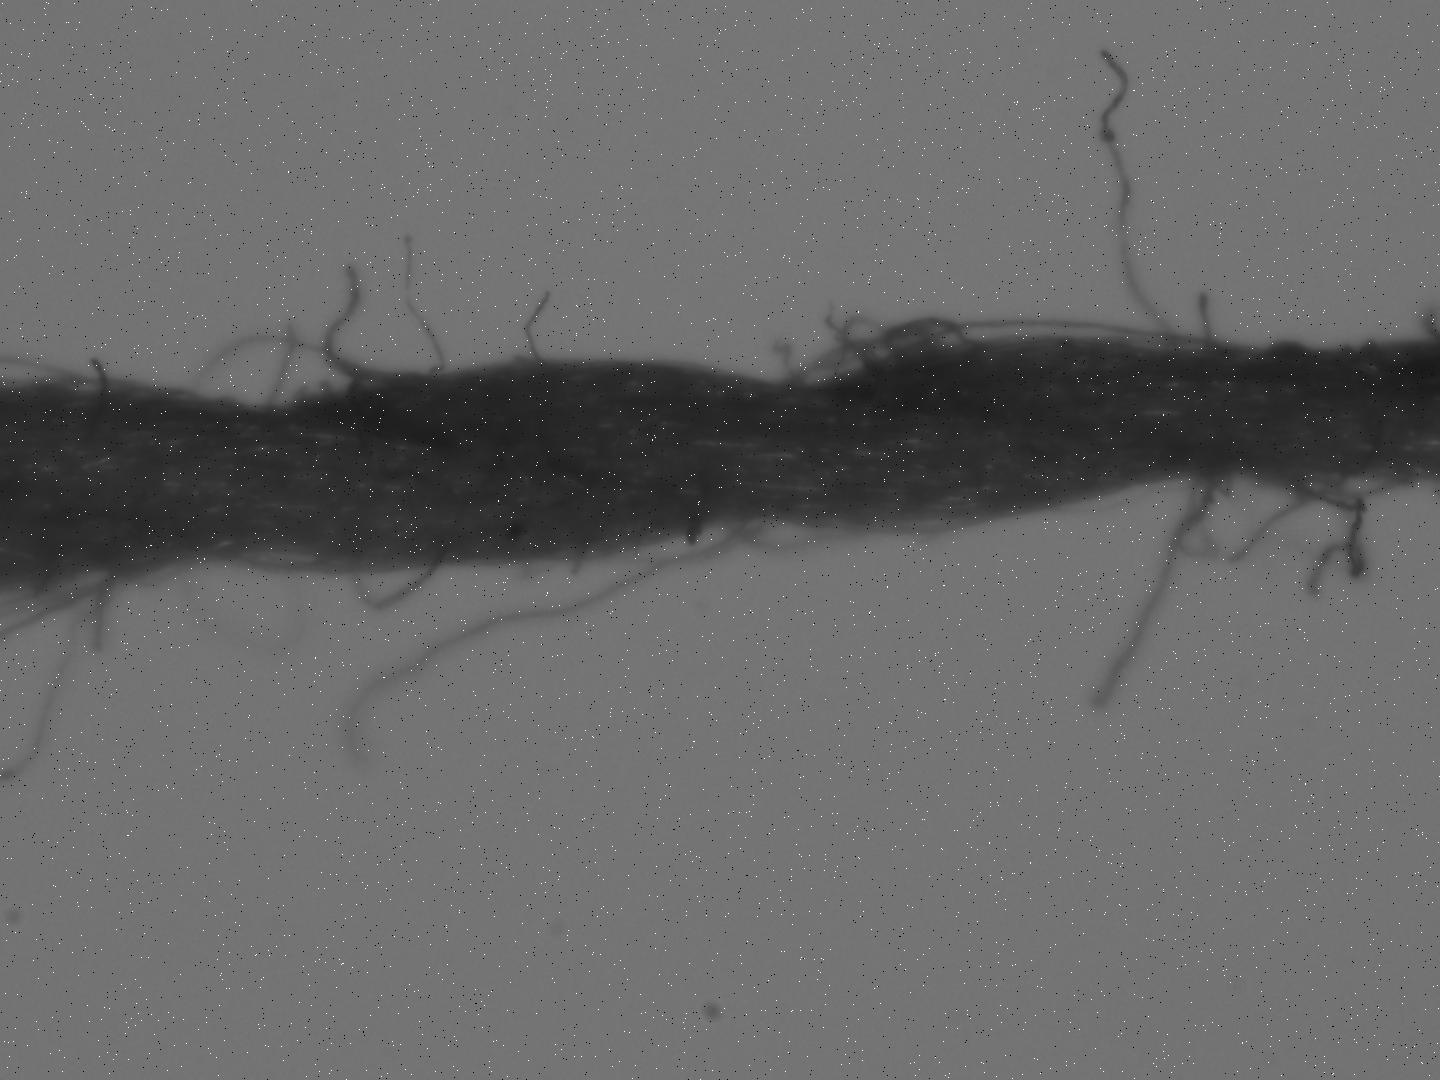loop_fiber: (763, 307, 1264, 391), (1, 560, 175, 784), (1251, 461, 1439, 591), (558, 501, 866, 563), (193, 321, 396, 414), (171, 543, 302, 658), (1, 352, 145, 405), (1171, 466, 1243, 564), (336, 559, 449, 610)
protruding_fiber: (346, 501, 772, 774), (1082, 467, 1223, 718), (1095, 39, 1185, 354), (1231, 462, 1346, 565), (397, 225, 448, 378), (321, 253, 376, 382), (519, 281, 557, 371), (1196, 288, 1215, 352)
